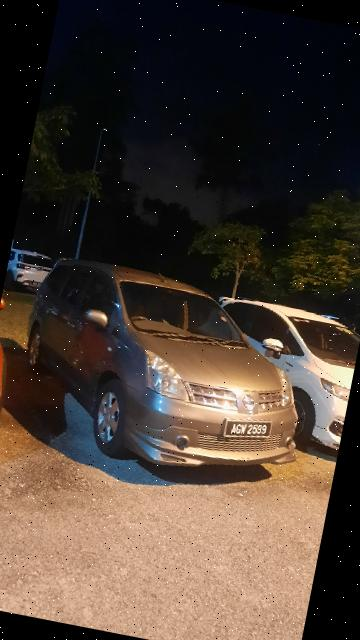License_Plate: (217, 411, 274, 447)
car: (5, 248, 334, 503), (186, 291, 360, 459)
